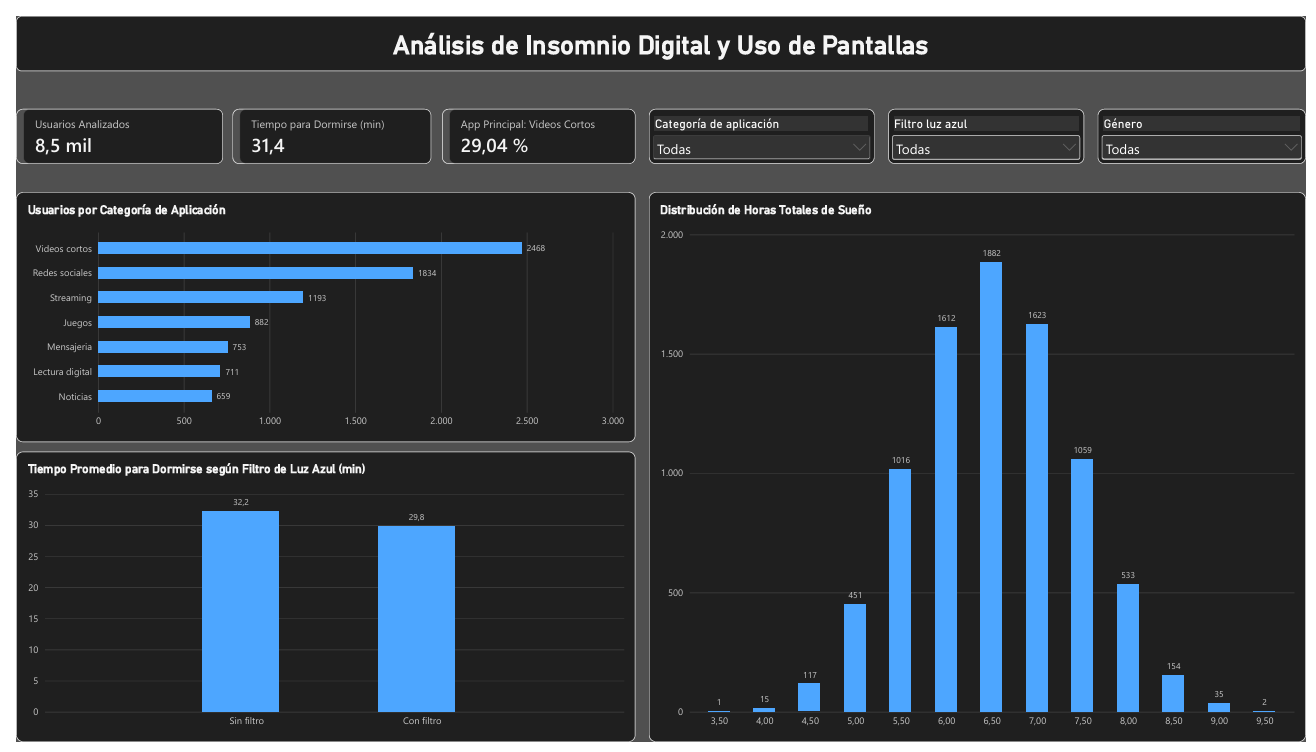

The dashboard page shown, as its layout file describes it:
{"tool":"powerbi","page":{"name":"Página 1","canvas":[1920,1080],"ordinal":0},"visuals":[{"type":"cardVisual","fields":{"Data":["sleep_clean.Usuarios Analizados"]},"box":[0,138,308,82],"z":0},{"type":"cardVisual","fields":{"Data":["sleep_clean.Tiempo para Dormirse (min)"]},"box":[322,138,296,82],"z":1000},{"type":"cardVisual","fields":{"Data":["sleep_clean.% Video Corto"]},"box":[634,138,288,82],"z":2000},{"type":"barChart","title":"Usuarios por Categoría de Aplicación","fields":{"Category":["sleep_clean.primary_app_category"],"Y":["CountNonNull(sleep_clean.user_id)"]},"box":[0,262,922,372],"z":3000},{"type":"clusteredColumnChart","title":"Tiempo Promedio para Dormirse según Filtro de Luz Azul (min)","fields":{"Category":["sleep_clean.blue_light_filter_on"],"Y":["Avg(sleep_clean.sleep_onset_latency_min)"]},"box":[0,648,922,432],"z":4000},{"type":"clusteredColumnChart","title":"Distribución de Horas Totales de Sueño","fields":{"Category":["sleep_clean.total_sleep_hours (ubicaciones)"],"Y":["CountNonNull(sleep_clean.user_id)"]},"box":[942,262,978,818],"z":5000},{"type":"slicer","fields":{"Values":["sleep_clean.primary_app_category"]},"box":[942,138,336,82],"z":6000},{"type":"slicer","fields":{"Values":["sleep_clean.blue_light_filter_on"]},"box":[1298,138,292,82],"z":7000},{"type":"slicer","fields":{"Values":["sleep_clean.gender"]},"box":[1610,138,310,82],"z":8000},{"type":"textbox","box":[0,0,1920,82],"z":9000}]}

Visuals, with their boxes in screenshot pixels (x1, y1, x2, y2), scaled from the page's 1920x1080 canvas onto the 1316x752 screenshot:
cardVisual - sleep_clean.Usuarios Analizados: [0, 96, 211, 153]
cardVisual - sleep_clean.Tiempo para Dormirse (min): [221, 96, 424, 153]
cardVisual - sleep_clean.% Video Corto: [435, 96, 632, 153]
"Usuarios por Categoría de Aplicación" barChart: [0, 182, 632, 441]
"Tiempo Promedio para Dormirse según Filtro de Luz Azul (min)" clusteredColumnChart: [0, 451, 632, 751]
"Distribución de Horas Totales de Sueño" clusteredColumnChart: [646, 182, 1315, 751]
slicer - sleep_clean.primary_app_category: [646, 96, 876, 153]
slicer - sleep_clean.blue_light_filter_on: [890, 96, 1090, 153]
slicer - sleep_clean.gender: [1104, 96, 1315, 153]
textbox: [0, 0, 1315, 57]
